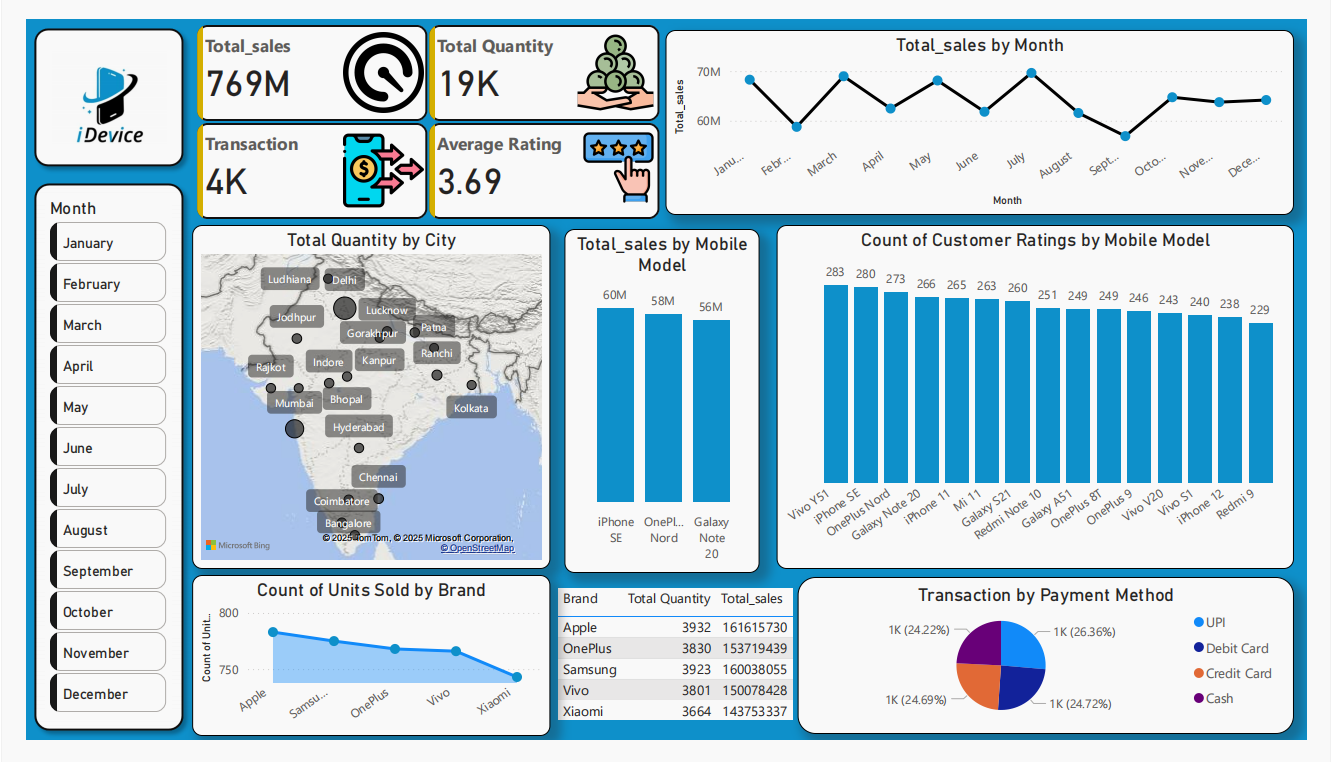

The page's visual inventory and layout, read from the dashboard file:
{"tool":"powerbi","page":{"name":"MOBOLE_SALE_REPORT","canvas":[1280,720],"ordinal":0},"visuals":[{"type":"shape","box":[0,0,166.5,155],"z":0},{"type":"image","box":[21,19.1,124.4,116.7],"z":1000},{"type":"shape","box":[0,155,166.5,564.4],"z":2000},{"type":"advancedSlicerVisual","fields":{"Values":["Sales_Data.Date.Variation.Date Hierarchy.Month"]},"box":[19.1,177.9,126.3,520.4],"z":3000},{"type":"cardVisual","fields":{"Data":["Sales_Data.Total_sales","Sales_Data.Total Quantity","Sales_Data.Total Transaction","Sales_Data.Average Rating"]},"box":[166.5,0,472.6,204.7],"z":4000},{"type":"map","fields":{"Category":["Sales_Data.City"],"Size":["Sales_Data.Total Quantity"]},"box":[166.5,204.7,357.8,344.4],"z":5000},{"type":"lineChart","fields":{"Y":["Sales_Data.Total_sales"],"Category":["Sales_Data.Date.Variation.Date Hierarchy.Month","Sales_Data.Date.Variation.Date Hierarchy.Day"]},"box":[639.1,9.6,627.6,185.6],"z":6000},{"type":"clusteredColumnChart","fields":{"Category":["Sales_Data.Mobile Model"],"Y":["Sales_Data.Total_sales"]},"box":[530,208.6,212.4,344.4],"z":7000},{"type":"pieChart","fields":{"Y":["Sales_Data.Transaction"],"Category":["Sales_Data.Payment Method"]},"box":[771.1,556.8,495.6,156.9],"z":8000},{"type":"clusteredColumnChart","fields":{"Category":["Sales_Data.Mobile Model"],"Y":["CountNonNull(Sales_Data.Customer Ratings)"]},"box":[750,204.7,516.6,344.4],"z":9000},{"type":"tableEx","fields":{"Values":["Sales_Data.Brand","Sales_Data.Total Quantity","Sales_Data.Total_sales"]},"box":[526.2,562.5,246.8,156.9],"z":10000},{"type":"stackedAreaChart","fields":{"Y":["CountNonNull(Sales_Data.Units Sold)"],"Category":["Sales_Data.Brand"]},"box":[166.5,554.9,357.8,160.7],"z":11000}]}

Visuals, with their boxes in screenshot pixels (x1, y1, x2, y2), scaled from the page's 1280x720 canvas onto the 1332x762 screenshot:
shape: 0,0,173,164
image: 22,20,151,144
shape: 0,164,173,761
advancedSlicerVisual - Sales_Data.Date.Variation.Date Hierarchy.Month: 20,188,151,739
cardVisual - Sales_Data.Total_sales x Sales_Data.Total Quantity: 173,0,665,217
map - Sales_Data.City x Sales_Data.Total Quantity: 173,217,546,581
lineChart - Sales_Data.Total_sales x Sales_Data.Date.Variation.Date Hierarchy.Month: 665,10,1318,207
clusteredColumnChart - Sales_Data.Mobile Model x Sales_Data.Total_sales: 552,221,773,585
pieChart - Sales_Data.Transaction x Sales_Data.Payment Method: 802,589,1318,755
clusteredColumnChart - Sales_Data.Mobile Model x CountNonNull(Sales_Data.Customer Ratings): 780,217,1318,581
tableEx - Sales_Data.Brand x Sales_Data.Total Quantity: 548,595,804,761
stackedAreaChart - CountNonNull(Sales_Data.Units Sold) x Sales_Data.Brand: 173,587,546,757
